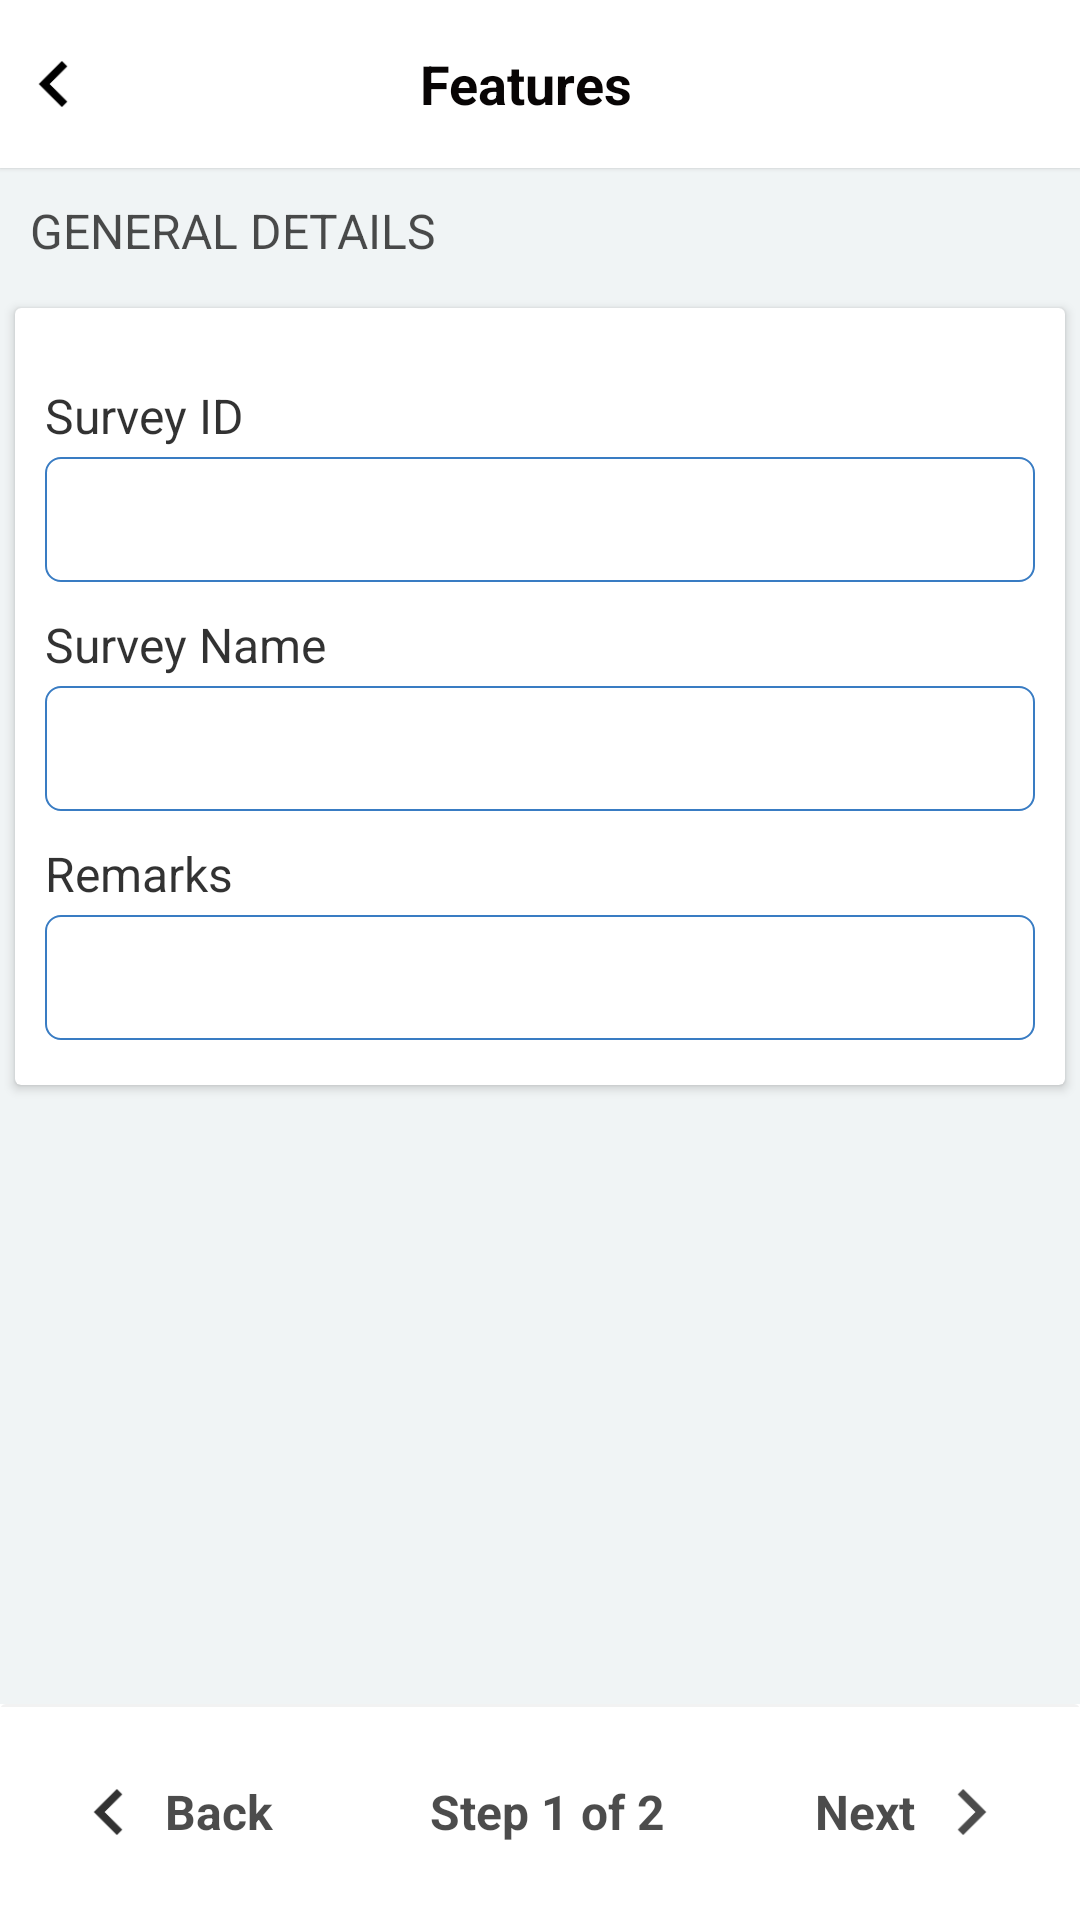

Point at icon controls on the screen. Image size 1080 × 1920, points as (x=x, y=y).
chevron left: (x=53, y=84), (x=108, y=1812)
chevron right: (x=972, y=1812)
